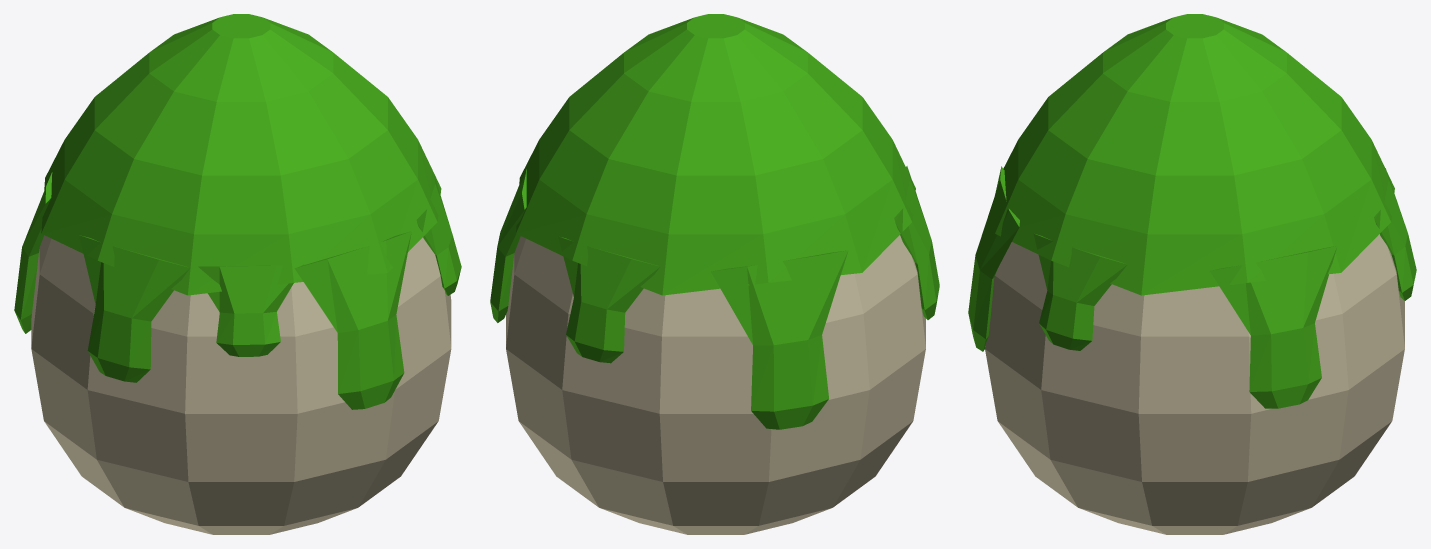
The model's file is ForestMossy.fbx.
The picture shows the model from 3 angles, left to right: view 1: azimuth 30°, elevation 25°; view 2: azimuth 150°, elevation 25°; view 3: azimuth 270°, elevation 25°; orthographic projection.
Parts seen in each view (by area): view 1: Body; view 2: Body; view 3: Body.
Part boxes in pixels (box(x1,y1,x2,y2)): Body: box(14, 14, 461, 534); Body: box(490, 14, 939, 534); Body: box(968, 14, 1416, 534).
Size of the model in its own units: 4.66 by 5.66 by 4.95.
